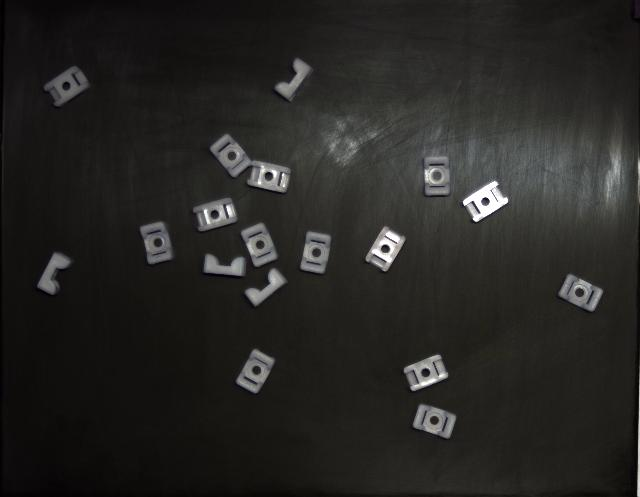first_side: (210, 134, 251, 178), (236, 350, 275, 394), (558, 275, 604, 312), (241, 224, 278, 268), (412, 404, 456, 439), (140, 221, 174, 265), (300, 231, 331, 274), (424, 156, 450, 196)
second_side: (44, 66, 90, 108), (462, 181, 508, 222), (365, 228, 405, 272), (404, 355, 449, 391), (192, 198, 238, 232), (248, 161, 291, 194)
third_side: (245, 269, 288, 308), (36, 253, 74, 295), (275, 58, 312, 101), (204, 254, 246, 276)
